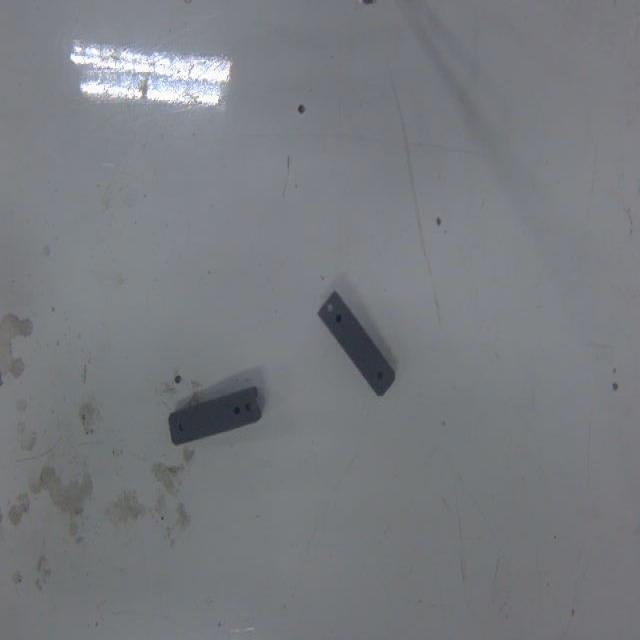grey: (317, 290, 398, 400), (167, 382, 261, 444)
head: (177, 422, 186, 434), (376, 369, 384, 382)
